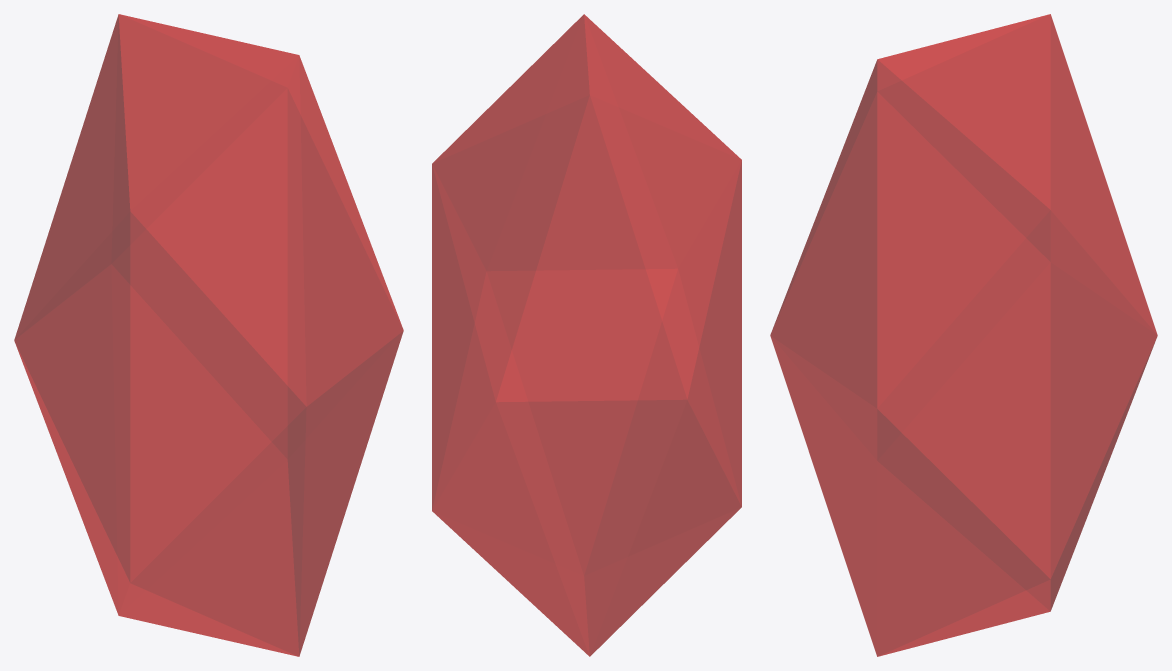
The model's file is FireCrystal.fbx.
3 renders of one model, left to right at view 1: azimuth 30°, elevation 25°; view 2: azimuth 150°, elevation 25°; view 3: azimuth 270°, elevation 25°, orthographic. The views are drawn at different scales.
Parts seen in each view (by area): view 1: pPlatonic1; view 2: pPlatonic1; view 3: pPlatonic1.
Part boxes in pixels (x1=…): pPlatonic1: x1=14, y1=14, x2=403, y2=656; pPlatonic1: x1=432, y1=14, x2=741, y2=656; pPlatonic1: x1=770, y1=14, x2=1157, y2=656.
Bounding box in the file's own units: 8.94 × 17.01 × 10.
